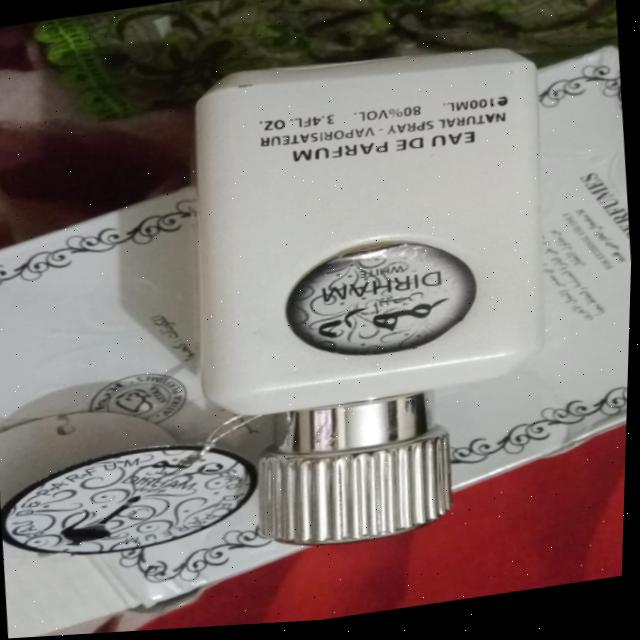perfume: (90, 0, 609, 599)
